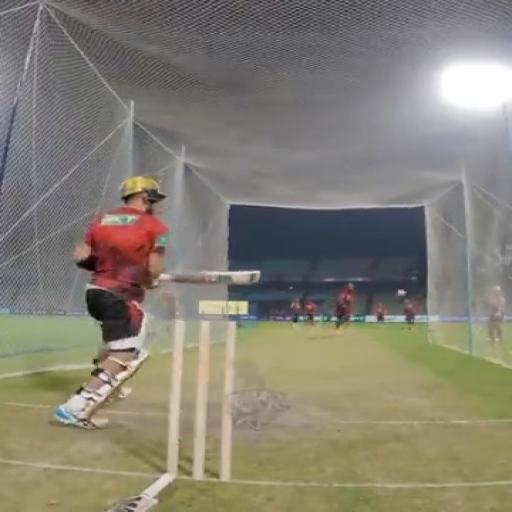Cricket bat: (161, 270, 259, 284)
